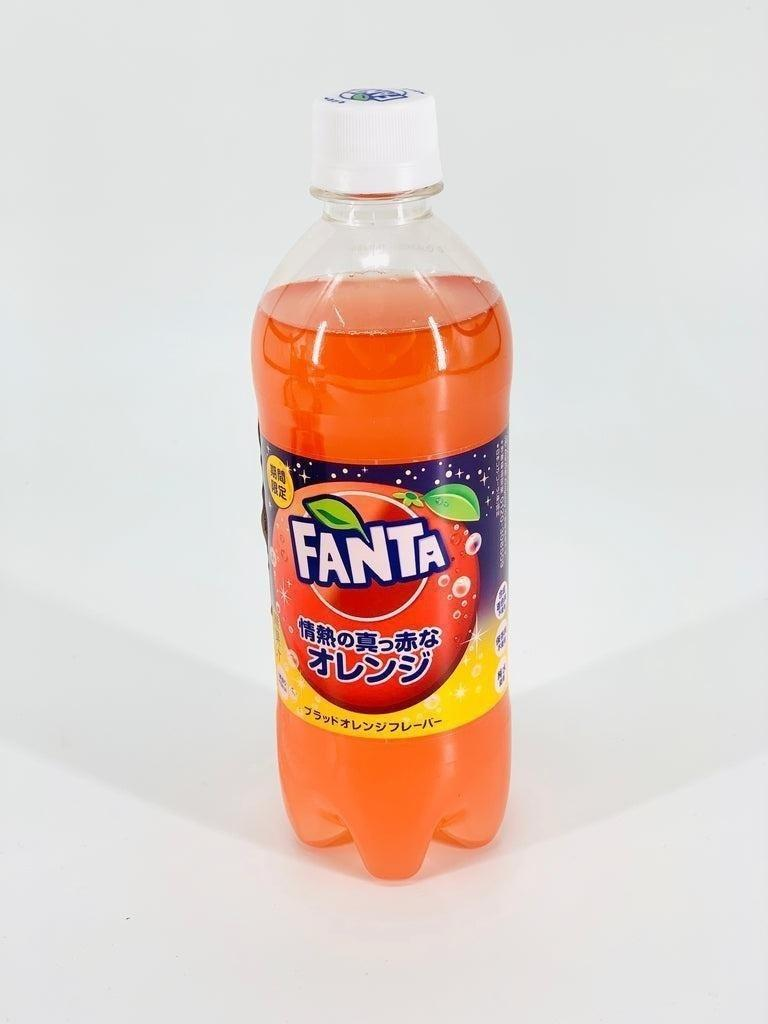bottle-plastic: (246, 76, 520, 887)
